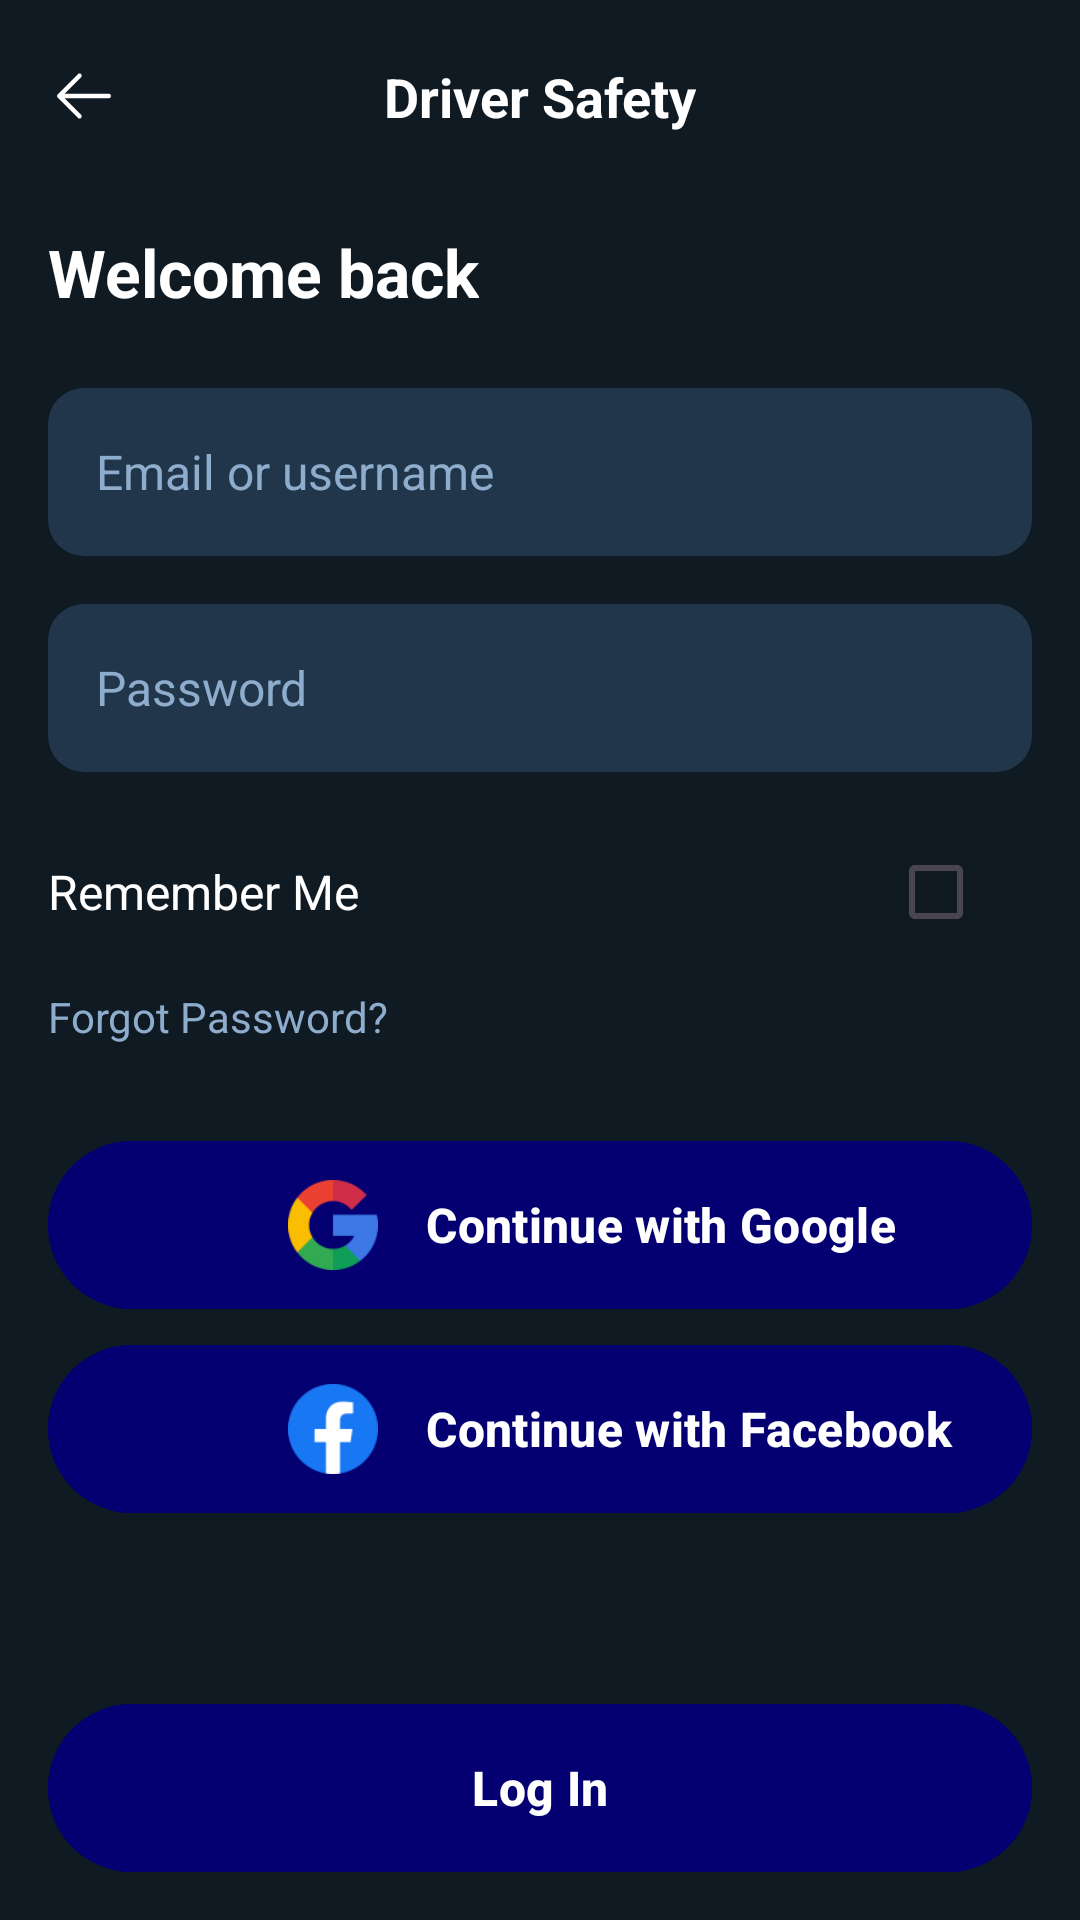

Icons on this 1080px×1920px Android screen, each with the point to tap as [x,y]:
Go Back: [84,96]
